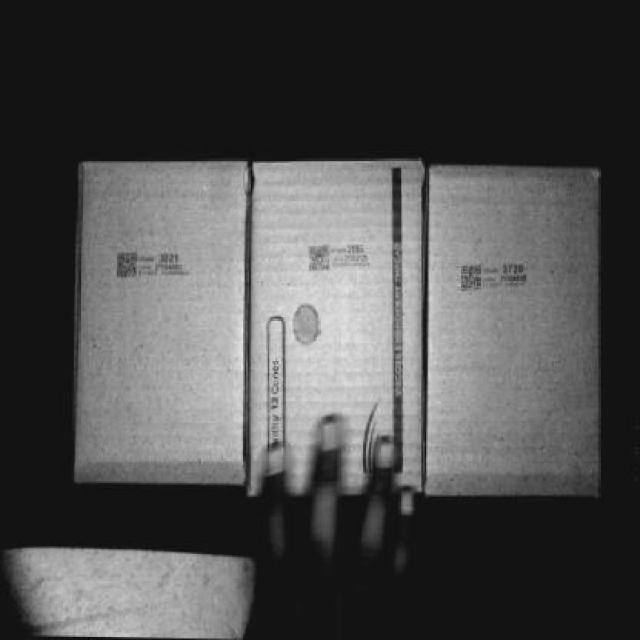cardboxes: (249, 160, 425, 497), (431, 166, 603, 494), (78, 161, 253, 477)
